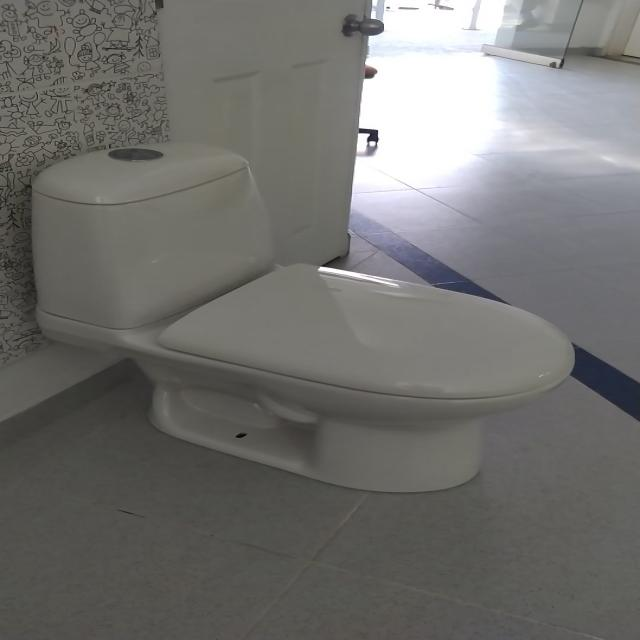toilet: (24, 132, 598, 503)
